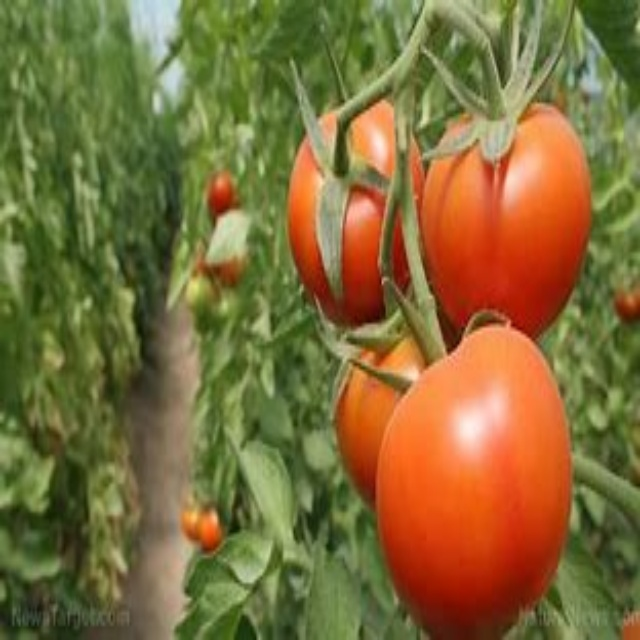tomato: (385, 327, 570, 633), (428, 101, 601, 339), (279, 102, 423, 324), (315, 340, 449, 505)
